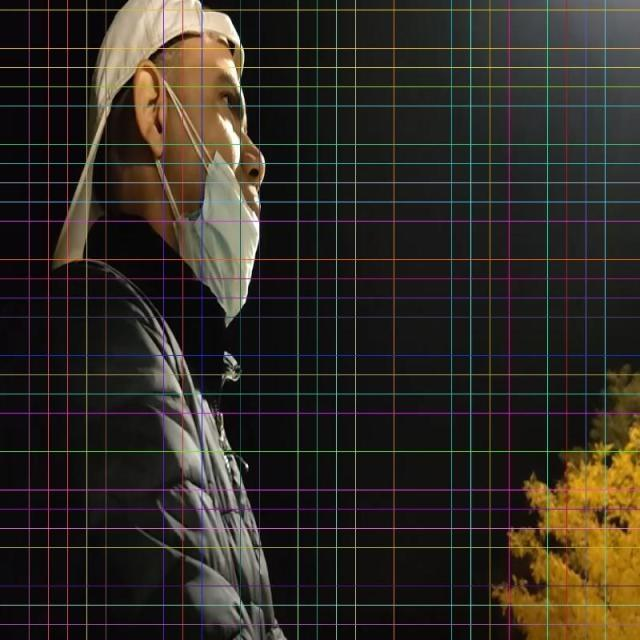hairnet: (194, 68, 264, 308)
